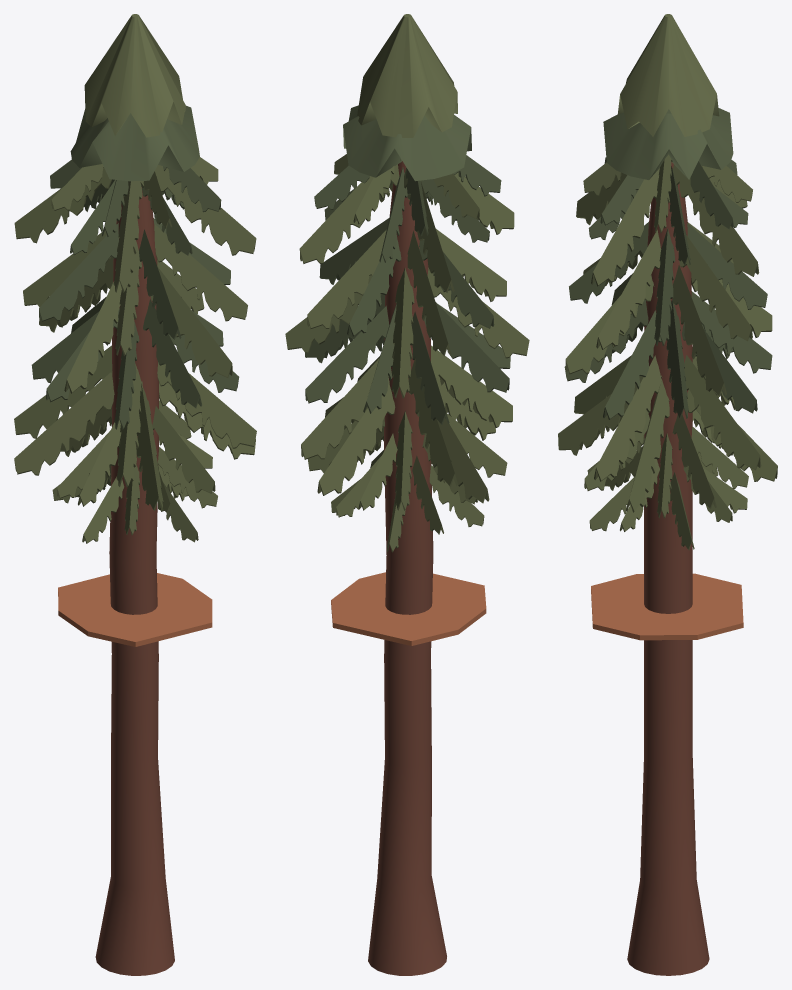
Rendered from flat plat.fbx.
3 views of the same model, side by side, from view 1: azimuth 30°, elevation 25°; view 2: azimuth 150°, elevation 25°; view 3: azimuth 270°, elevation 25° (orthographic).
Visible parts, largest first — view 1: trunk, pCube5 (×13), pCube3 (×14), pCube6 (×8), pCylinder6, pCylinder8, pCylinder5, pCube4 (×3); view 2: trunk, pCube4 (×14), pCube5 (×14), pCube6 (×6), pCylinder6, pCube3 (×5), pCylinder8, pCylinder5; view 3: trunk, pCube6 (×15), pCube4 (×11), pCube3 (×11), pCylinder6, pCylinder8, pCylinder5, pCube5.
Boxes of the visible parts, bbox=[...] form: trunk: bbox=[95, 187, 174, 975]; pCube5 (×13): bbox=[14, 164, 139, 506]; pCube3 (×14): bbox=[82, 166, 239, 543]; pCube6 (×8): bbox=[153, 165, 256, 542]; pCylinder6: bbox=[84, 14, 185, 137]; pCylinder8: bbox=[58, 573, 212, 646]; pCylinder5: bbox=[70, 105, 199, 181]; pCube4 (×3): bbox=[31, 256, 113, 456]; trunk: bbox=[368, 161, 446, 975]; pCube4 (×14): bbox=[299, 159, 449, 517]; pCube5 (×14): bbox=[387, 155, 529, 552]; pCube6 (×6): bbox=[285, 165, 389, 472]; pCylinder6: bbox=[357, 14, 457, 137]; pCube3 (×5): bbox=[429, 172, 514, 526]; pCylinder8: bbox=[331, 572, 486, 645]; pCylinder5: bbox=[343, 105, 471, 181]; trunk: bbox=[627, 162, 709, 975]; pCube6 (×15): bbox=[589, 154, 757, 531]; pCube4 (×11): bbox=[670, 164, 777, 550]; pCube3 (×11): bbox=[558, 162, 661, 490]; pCylinder6: bbox=[617, 14, 719, 136]; pCylinder8: bbox=[591, 573, 743, 640]; pCylinder5: bbox=[603, 108, 733, 179]; pCube5: bbox=[703, 467, 747, 513].
Size of the model in its own units: 8.55 by 38.17 by 8.06.
